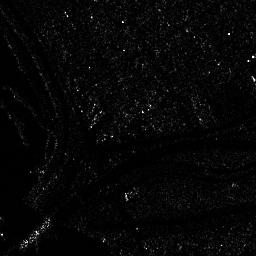ship: (19, 217, 51, 248)
